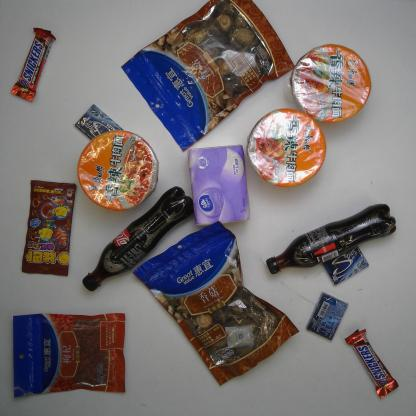Candy: (19, 178, 79, 278)
Chocolate: (343, 326, 400, 401), (8, 25, 58, 104)
Dried Food: (131, 218, 302, 388), (119, 0, 298, 154)
Dried Fruit: (11, 310, 128, 399)
Drink: (80, 183, 196, 295), (265, 200, 400, 277)
Gum: (72, 100, 127, 146), (304, 290, 350, 343), (319, 242, 371, 288)
Instant Noodles: (288, 42, 374, 125), (76, 129, 161, 212), (244, 107, 328, 188)
Tissue: (185, 143, 252, 228)
